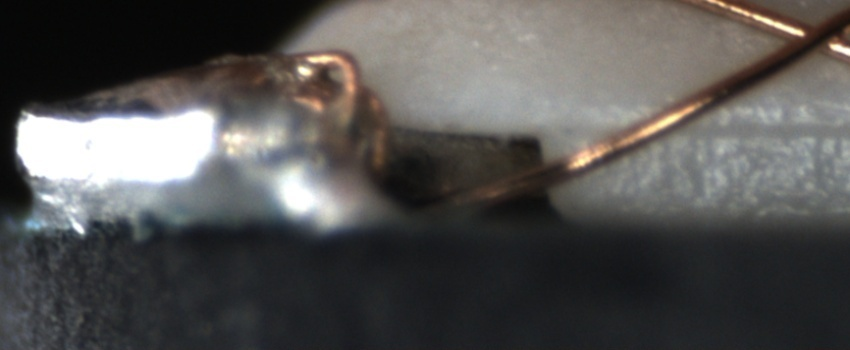CL: (768, 6, 850, 65)
DL: (592, 104, 849, 162)
TE: (280, 44, 392, 192)
